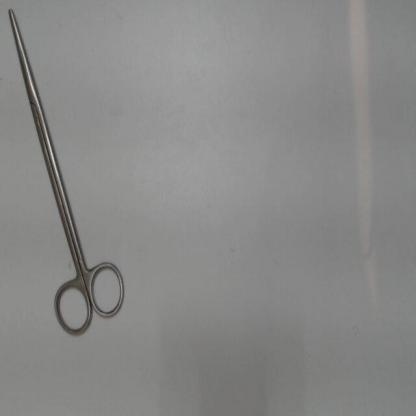9 Metzenbaum Scissors: (5, 4, 133, 343)
